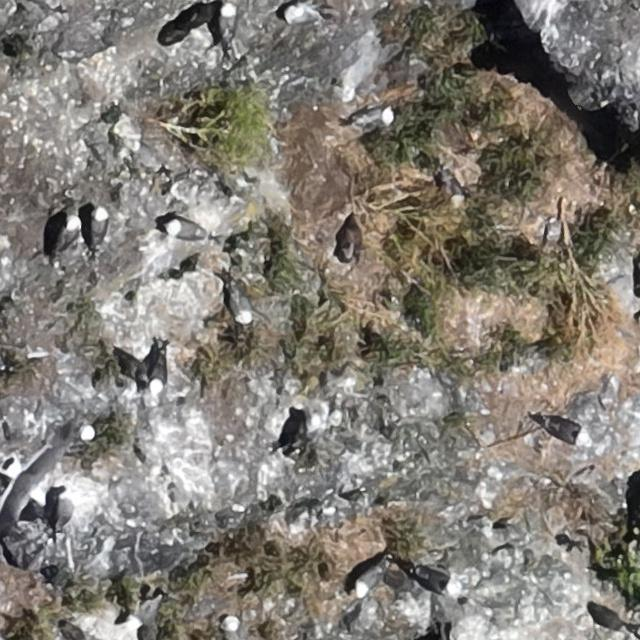F: (3, 422, 71, 530)
umineko: (415, 569, 455, 594), (285, 4, 321, 28), (544, 419, 582, 441), (356, 565, 383, 595), (356, 109, 393, 129), (168, 222, 206, 241), (233, 292, 252, 324), (90, 209, 107, 242), (61, 218, 78, 249), (442, 174, 462, 200), (220, 4, 236, 36), (151, 356, 166, 390)
